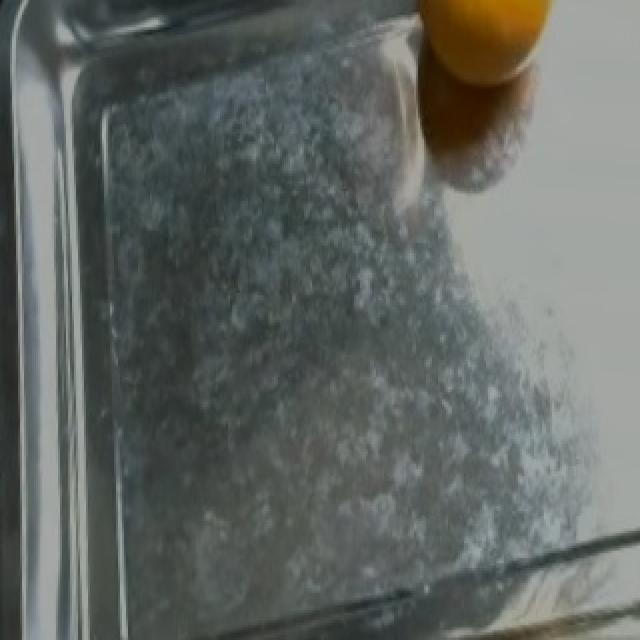Fruit: (380, 0, 588, 122)
